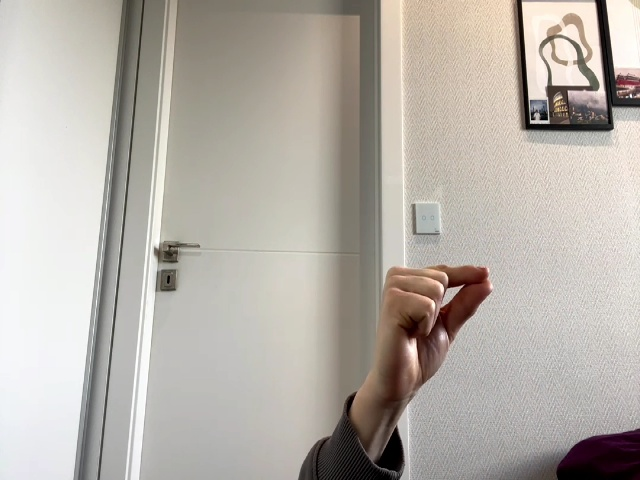P: (376, 265, 491, 400)
